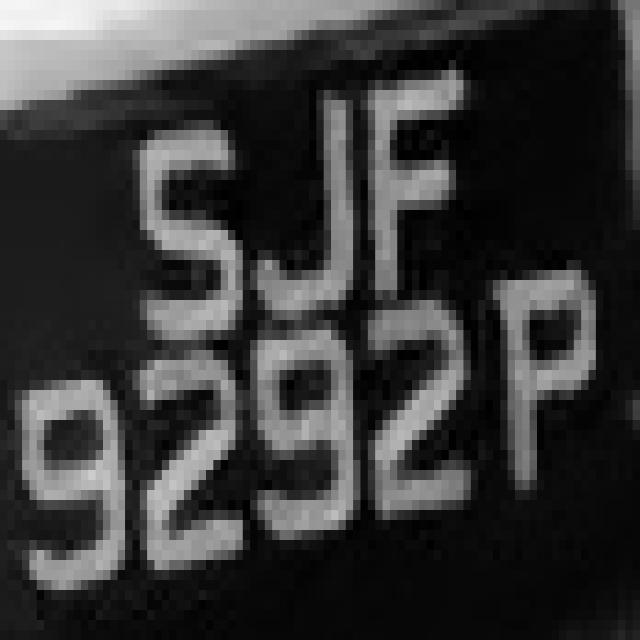2: (132, 340, 265, 600), (360, 290, 486, 550)
9: (7, 350, 140, 610), (243, 310, 360, 570)
F: (360, 50, 471, 290)
J: (235, 100, 368, 320)
P: (486, 250, 632, 510)
S: (110, 100, 250, 340)
